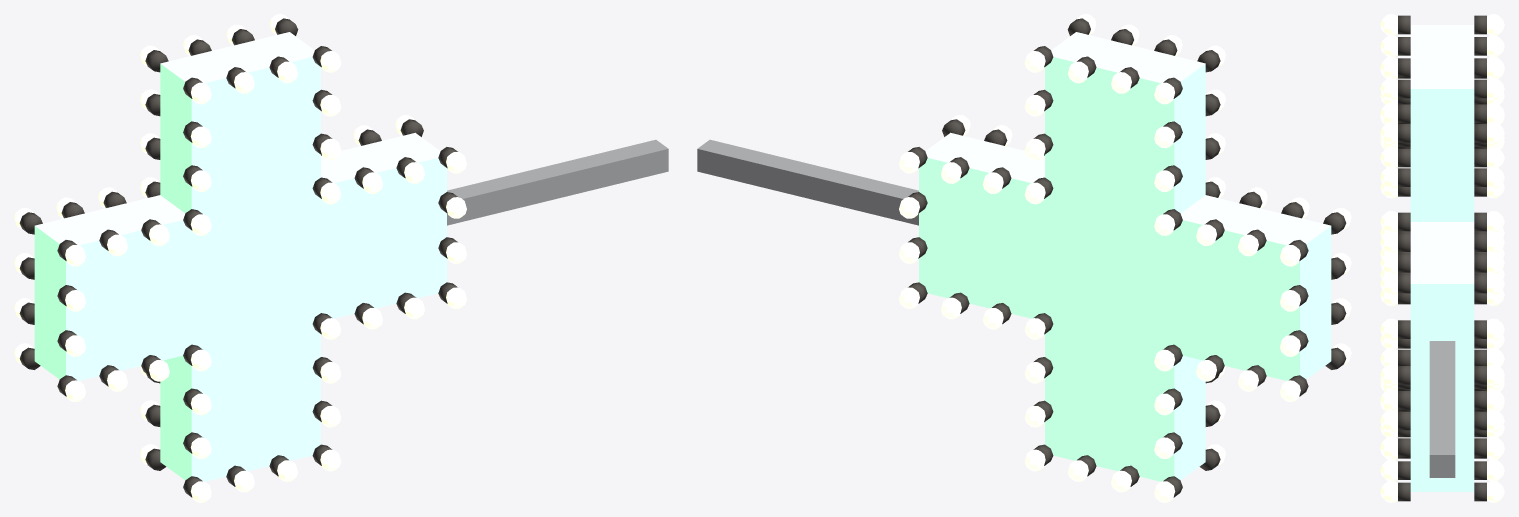
Rendered from pharmacy_cross.glb.
3 views of the same model, side by side, from view 1: azimuth 30°, elevation 25°; view 2: azimuth 150°, elevation 25°; view 3: azimuth 270°, elevation 25° (orthographic).
Parts seen in each view (by area): view 1: Sign, BulbsA, BulbsB; view 2: Sign, BulbsA, BulbsB; view 3: Sign, BulbsA, BulbsB.
Part boxes in pixels (x1=…): Sign: x1=19, y1=18, x2=668, y2=497; BulbsA: x1=14, y1=14, x2=466, y2=502; BulbsB: x1=14, y1=17, x2=466, y2=502; Sign: x1=697, y1=18, x2=1346, y2=497; BulbsA: x1=899, y1=14, x2=1351, y2=502; BulbsB: x1=899, y1=16, x2=1351, y2=500; Sign: x1=1398, y1=15, x2=1486, y2=501; BulbsA: x1=1380, y1=14, x2=1504, y2=502; BulbsB: x1=1380, y1=35, x2=1504, y2=481.
Size of the model in its own units: 2.28 by 1.47 by 0.392.
